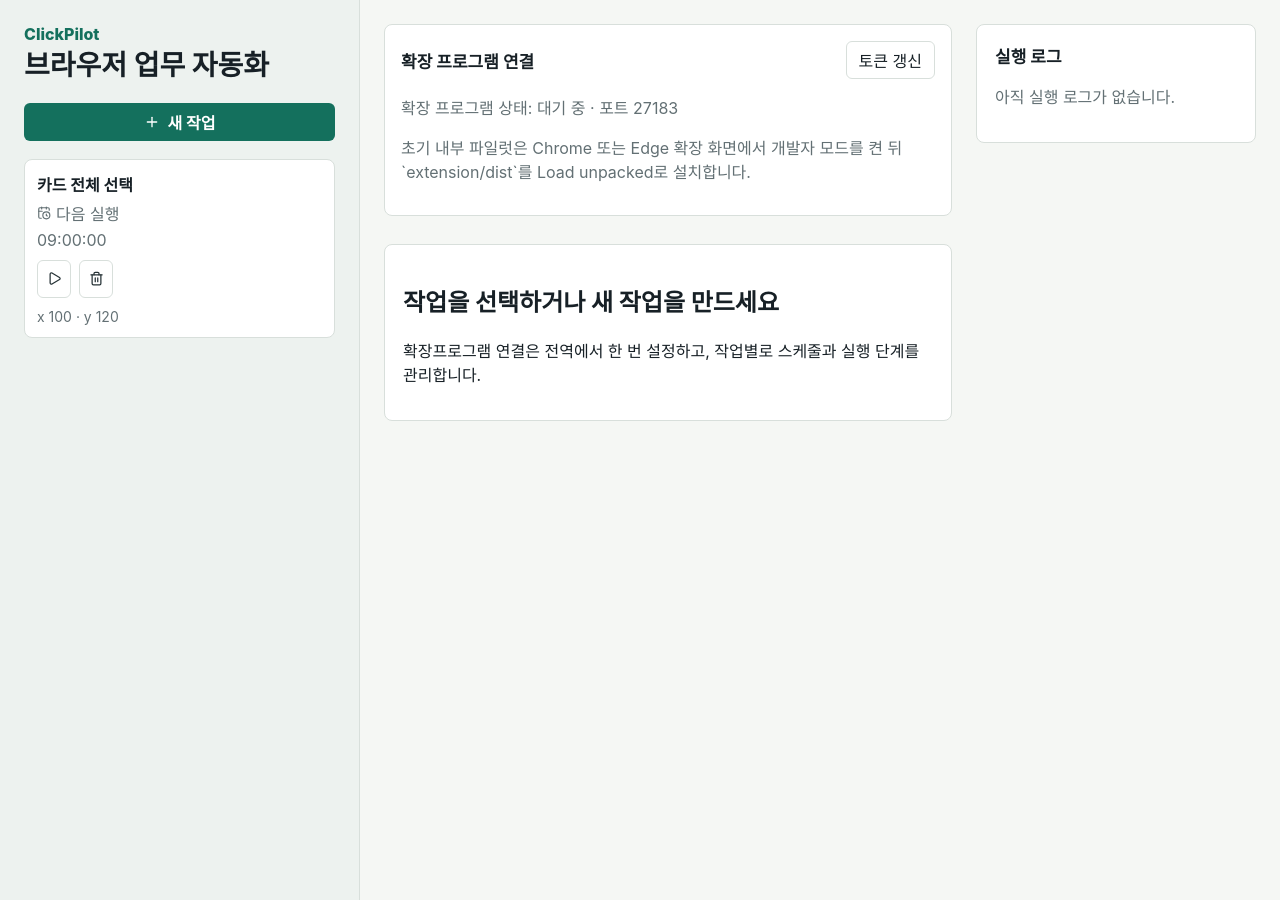
Scenario: ClickPilot task workflow › selects a saved task by clicking anywhere on its card body
Expected: the button "카드 전체 선택 다음 실행 09:00:00 x 100 · y 120" is shown, [24,159,335,338]
Click the text "09:00:00": (72, 240) [37,230,107,250]
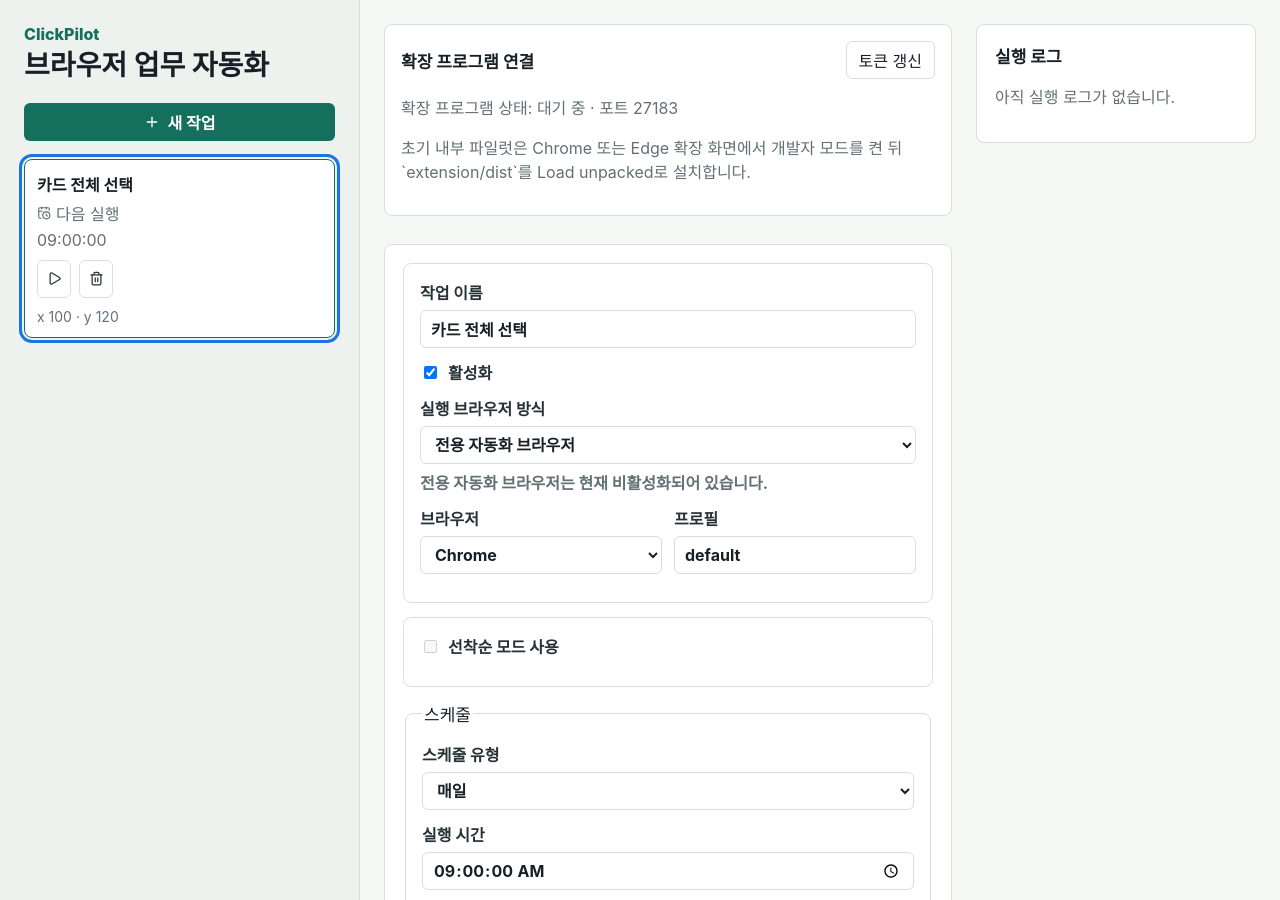
Now the field showing "카드 전체 선택" is shown, box [420,310,916,348]
